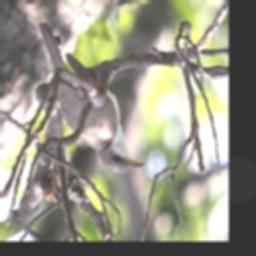Cuckoo: (38, 17, 146, 178)
